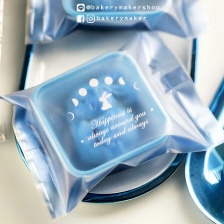snack: (0, 13, 224, 224), (17, 0, 209, 48)
